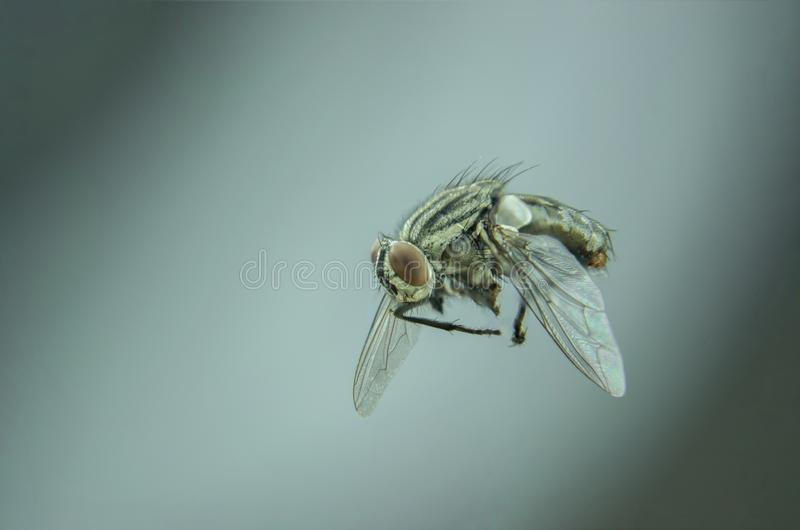insect: (352, 159, 625, 424)
